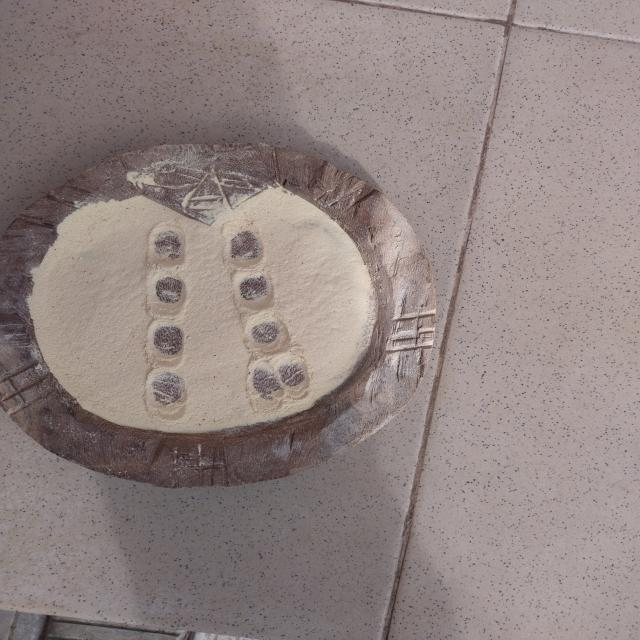double: (246, 351, 312, 408)
single: (229, 266, 277, 314), (143, 270, 188, 318), (142, 320, 186, 368), (146, 368, 188, 418), (240, 313, 292, 352), (220, 222, 264, 268), (149, 220, 187, 268)
